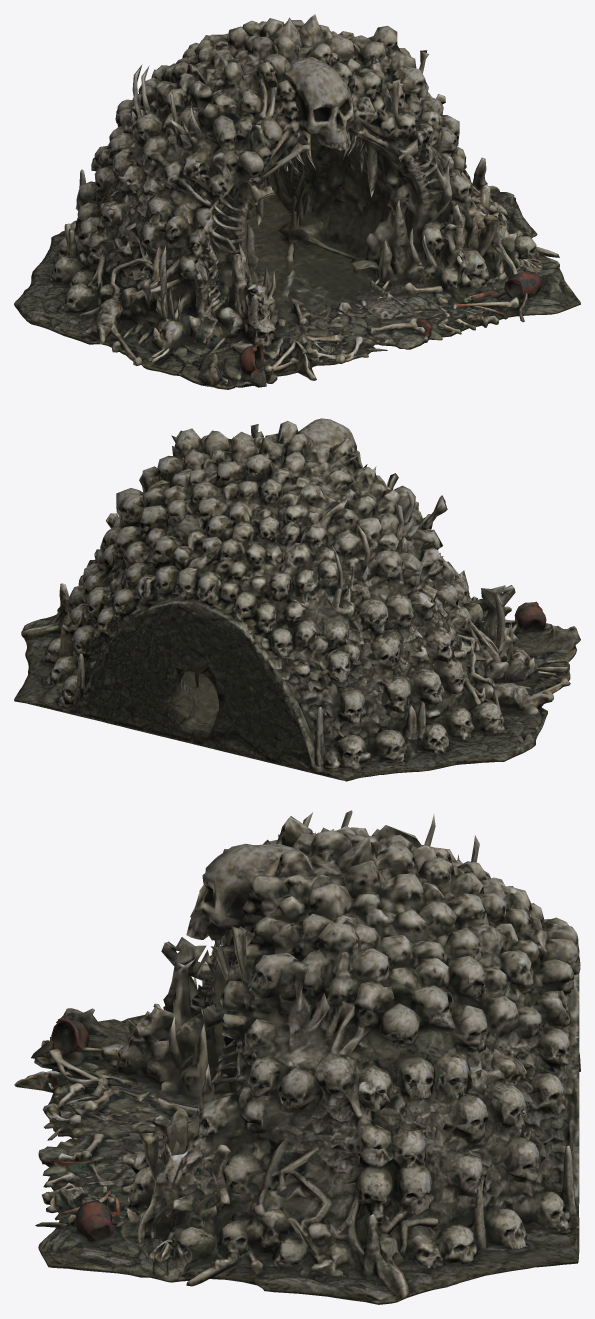
Rendered from CuevaCalaberas.glb.
3 views of the same model, one above another, from view 1: azimuth 30°, elevation 25°; view 2: azimuth 150°, elevation 25°; view 3: azimuth 270°, elevation 25° (orthographic). The views are drawn at different scales.
Visible parts, largest first — view 1: tripo_node_9ec1b43f-2e2b-4b7f-8b03-aafb5beddb9f; view 2: tripo_node_9ec1b43f-2e2b-4b7f-8b03-aafb5beddb9f; view 3: tripo_node_9ec1b43f-2e2b-4b7f-8b03-aafb5beddb9f.
Part boxes in pixels (<box>): tripo_node_9ec1b43f-2e2b-4b7f-8b03-aafb5beddb9f: <box>14,14,580,389</box>; tripo_node_9ec1b43f-2e2b-4b7f-8b03-aafb5beddb9f: <box>14,418,580,781</box>; tripo_node_9ec1b43f-2e2b-4b7f-8b03-aafb5beddb9f: <box>14,810,580,1304</box>.
Bounding box in the file's own units: 0.9812 × 0.4575 × 0.7369.
1 material, 1 textured.
